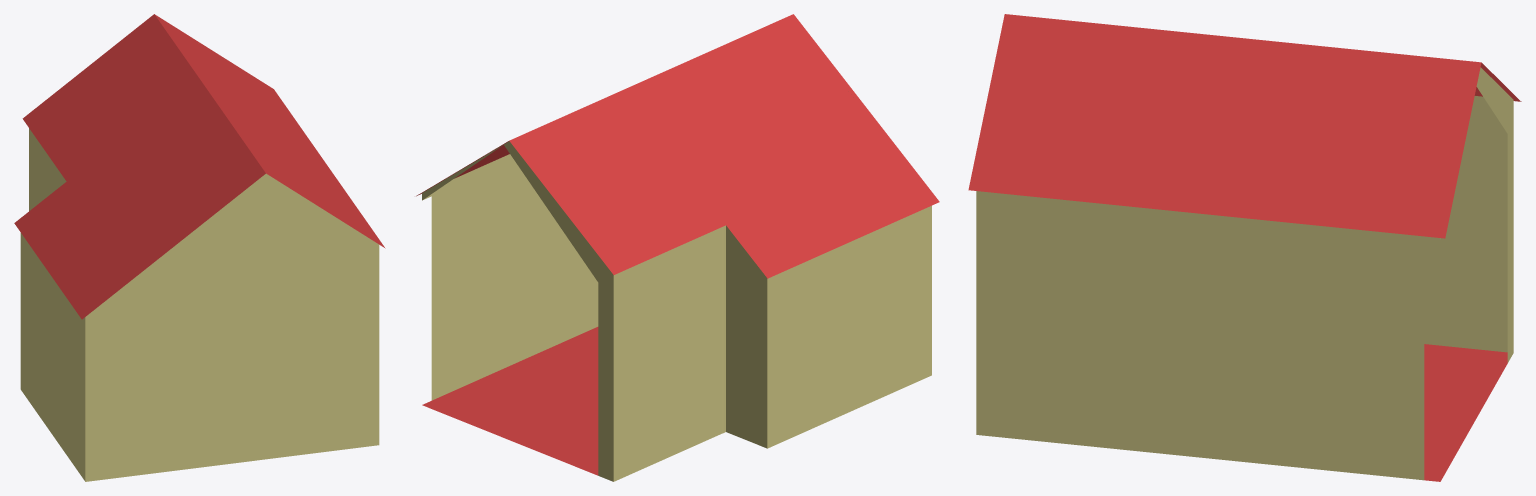
3 renders of one model, left to right at view 1: azimuth 30°, elevation 25°; view 2: azimuth 150°, elevation 25°; view 3: azimuth 270°, elevation 25°, orthographic. The views are drawn at different scales.
Bounding box in the file's own units: 19.07 × 21.16 × 15.16.
